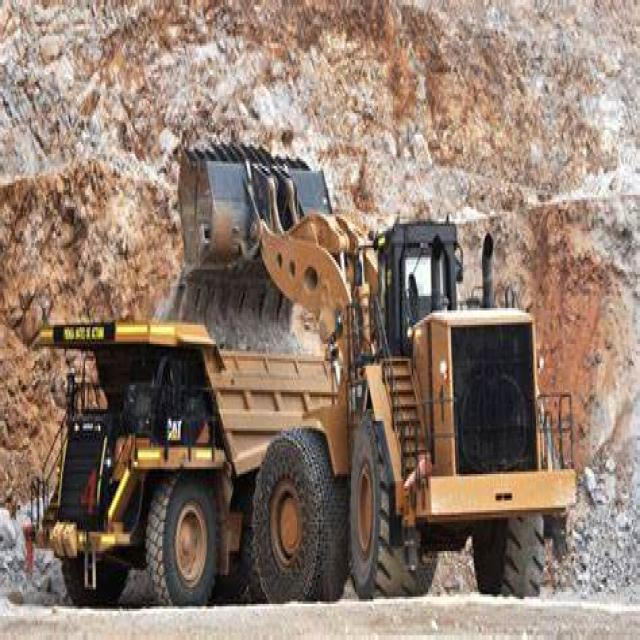buldozerpayloadergrader: (177, 121, 589, 618)
dump_truck: (15, 284, 256, 592)
